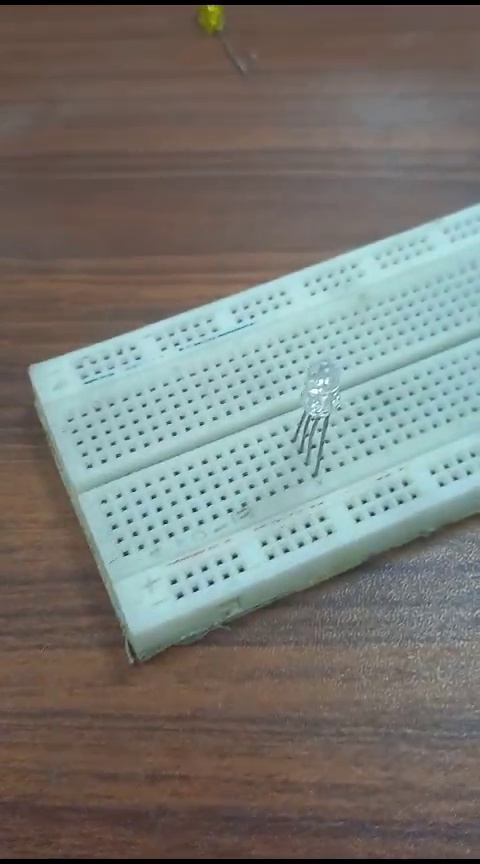LED: (280, 361, 343, 473)
